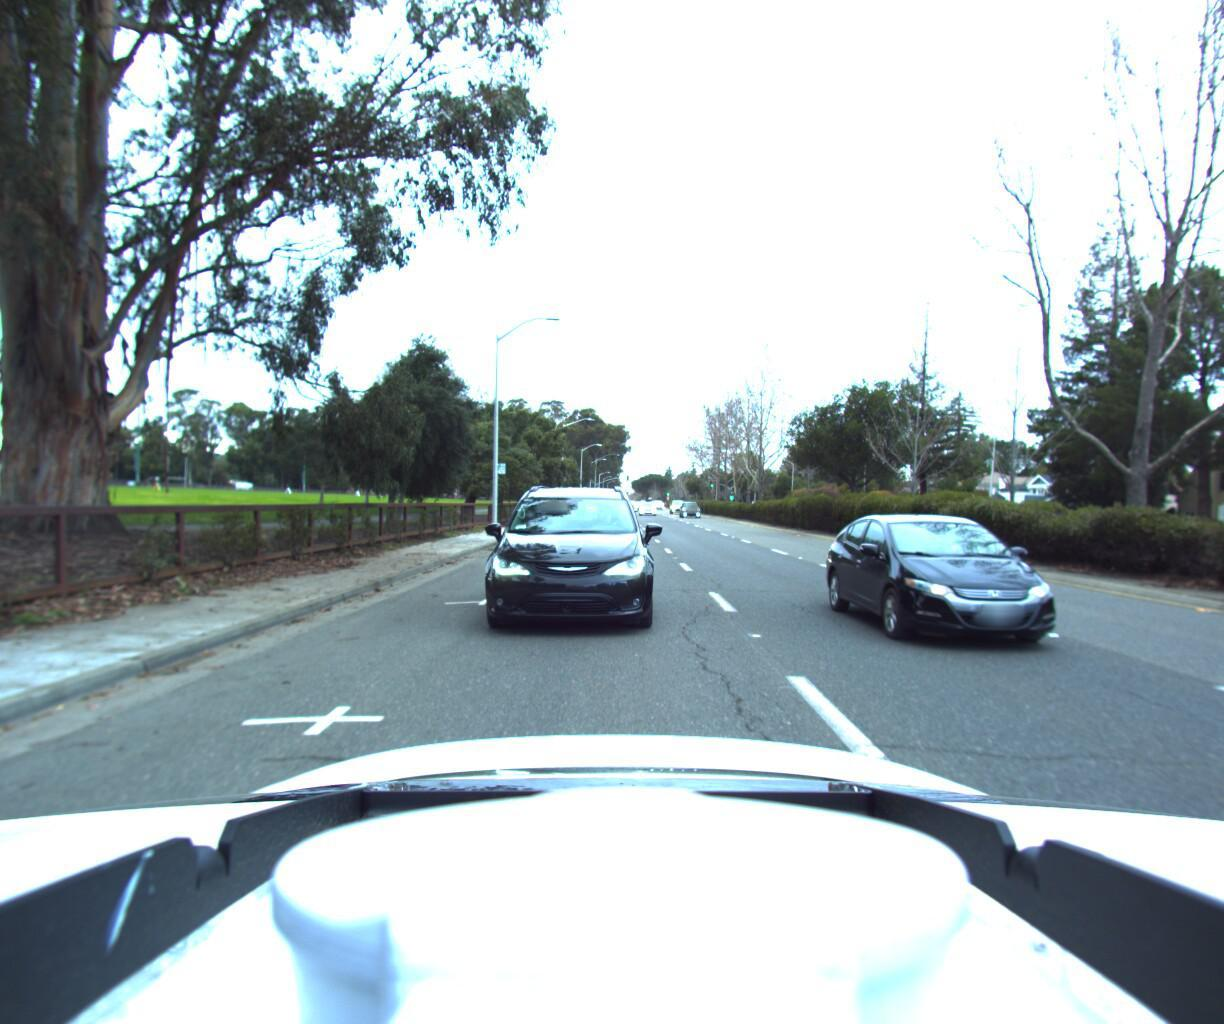car: (835, 500, 1192, 684), (477, 474, 649, 633), (679, 499, 703, 516), (638, 499, 656, 513)
